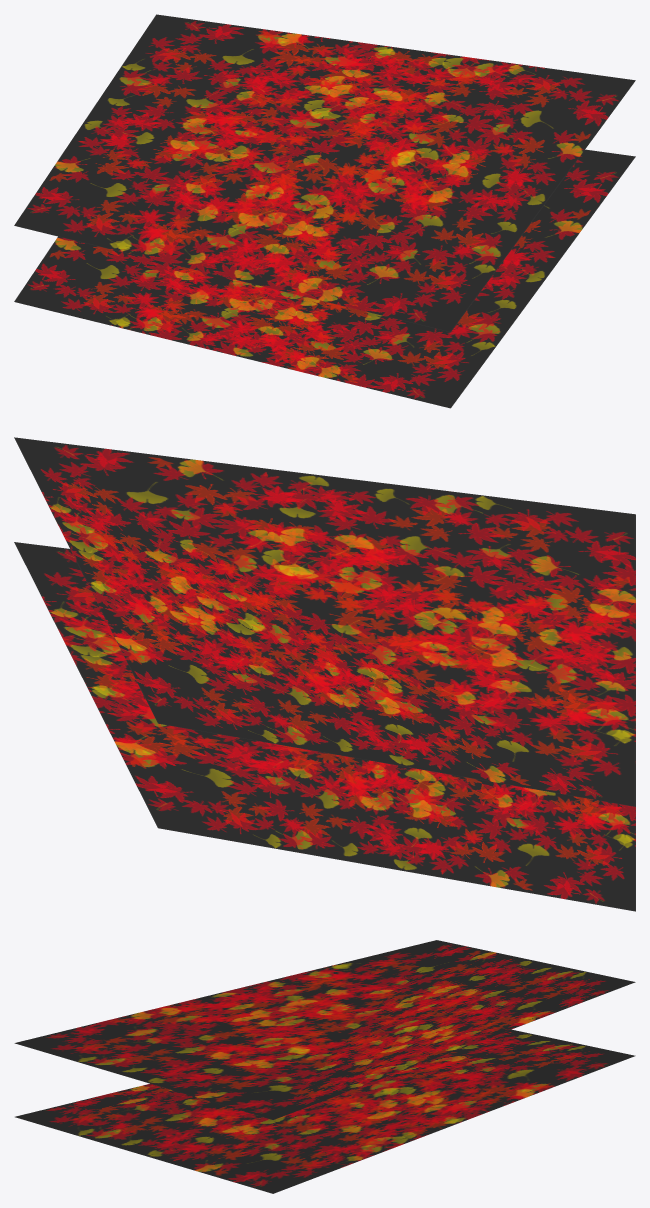
Rendered from CourseAki_CurveFloor_3_25.fbx.
The picture shows the model from 3 angles, top to bottom: view 1: azimuth 30°, elevation 25°; view 2: azimuth 150°, elevation 25°; view 3: azimuth 270°, elevation 25°; orthographic projection. The views are drawn at different scales.
Visible parts, largest first — view 1: polySurface474; view 2: polySurface474; view 3: polySurface474.
Boxes of the visible parts, <box> form: polySurface474: <box>14,14,635,408</box>; polySurface474: <box>14,437,635,911</box>; polySurface474: <box>14,940,635,1193</box>.
Size of the model in its own units: 7.38 by 2 by 7.64.
1 material, 1 textured.
